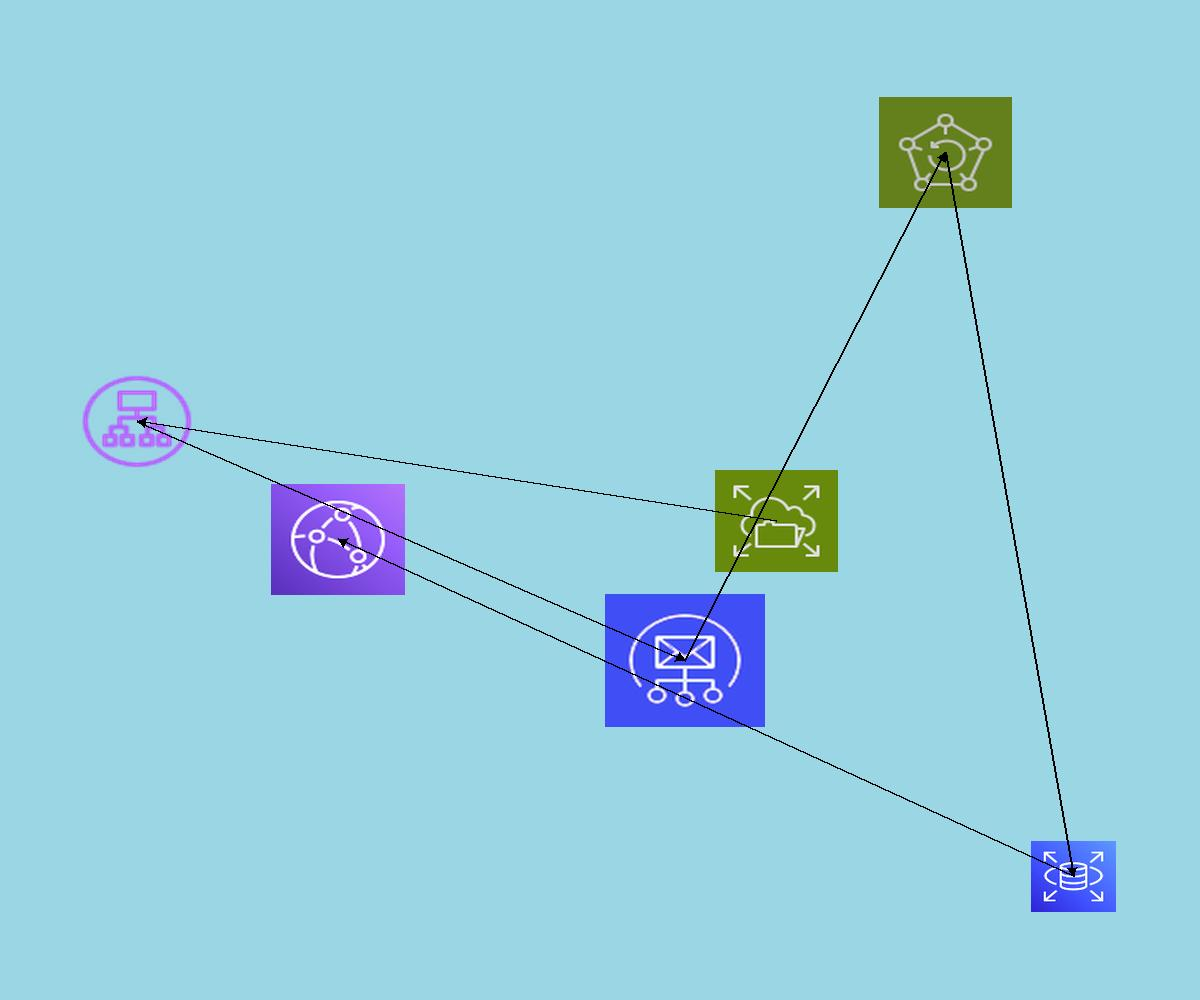AWS-Backup: (879, 97, 1012, 208)
AWS-CloudFront: (271, 484, 405, 595)
AWS-EFS: (715, 470, 838, 572)
AWS-RDS: (1031, 841, 1116, 912)
AWS-Res_Elastic-Load-Balancing_Application-Load-Balancer: (78, 372, 196, 471)
AWS-Simple-Email-Service: (605, 594, 765, 727)
